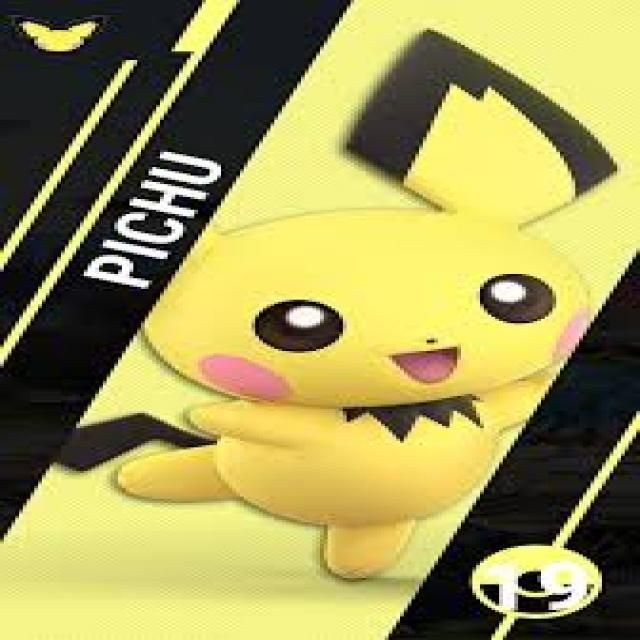pichu: (42, 64, 640, 557)
